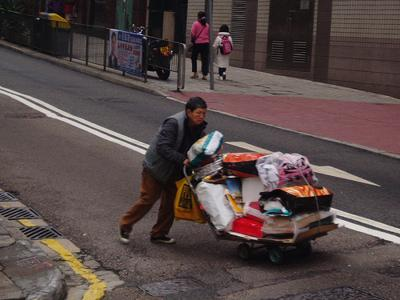person: (119, 97, 208, 245)
